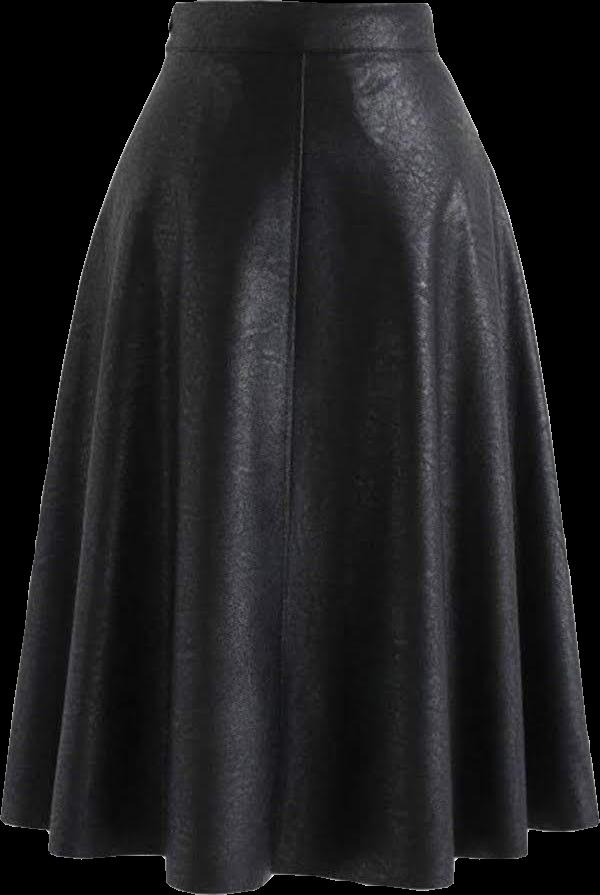Hemline: (0, 812, 599, 894)
Waistline: (163, 40, 441, 57), (173, 0, 432, 8)
